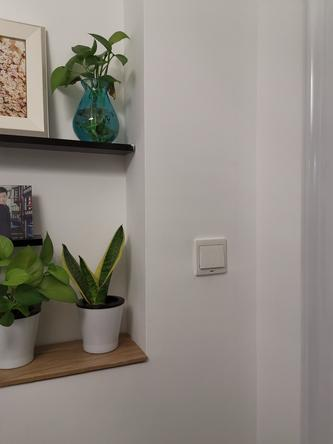switch: (198, 243, 226, 268)
